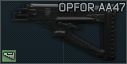AKM%5AK-74 ProMag Archangel OPFOR AA47 buttstock: (0, 0, 127, 64)
